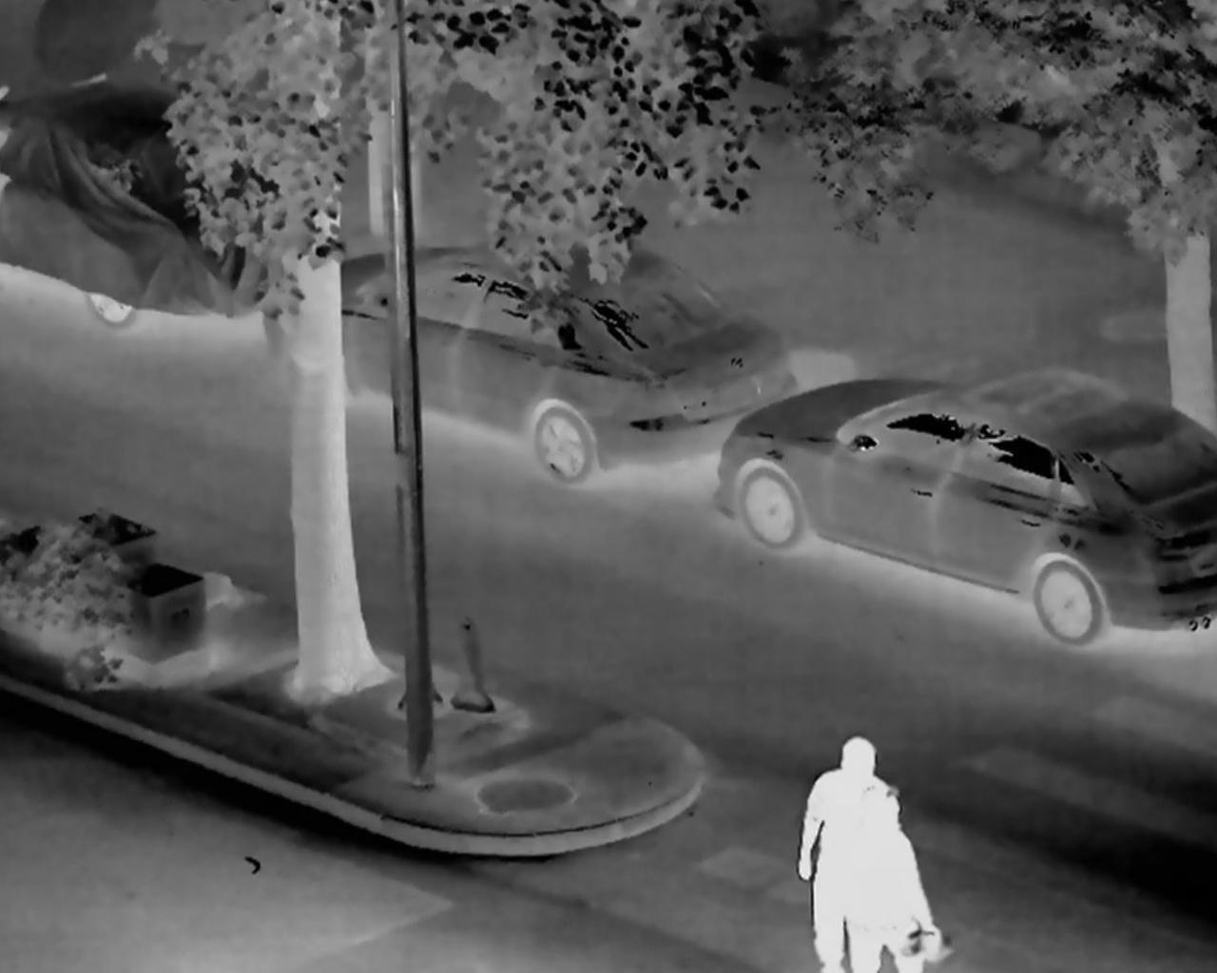person: (788, 715, 871, 973), (850, 781, 946, 973)
